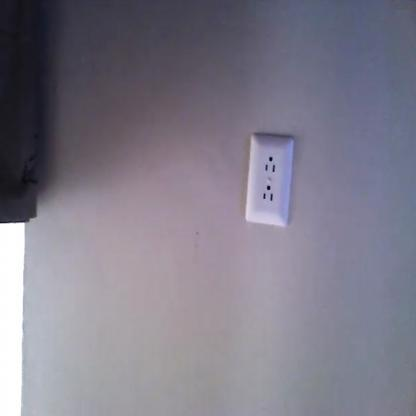OUTLET: (246, 138, 292, 226)
